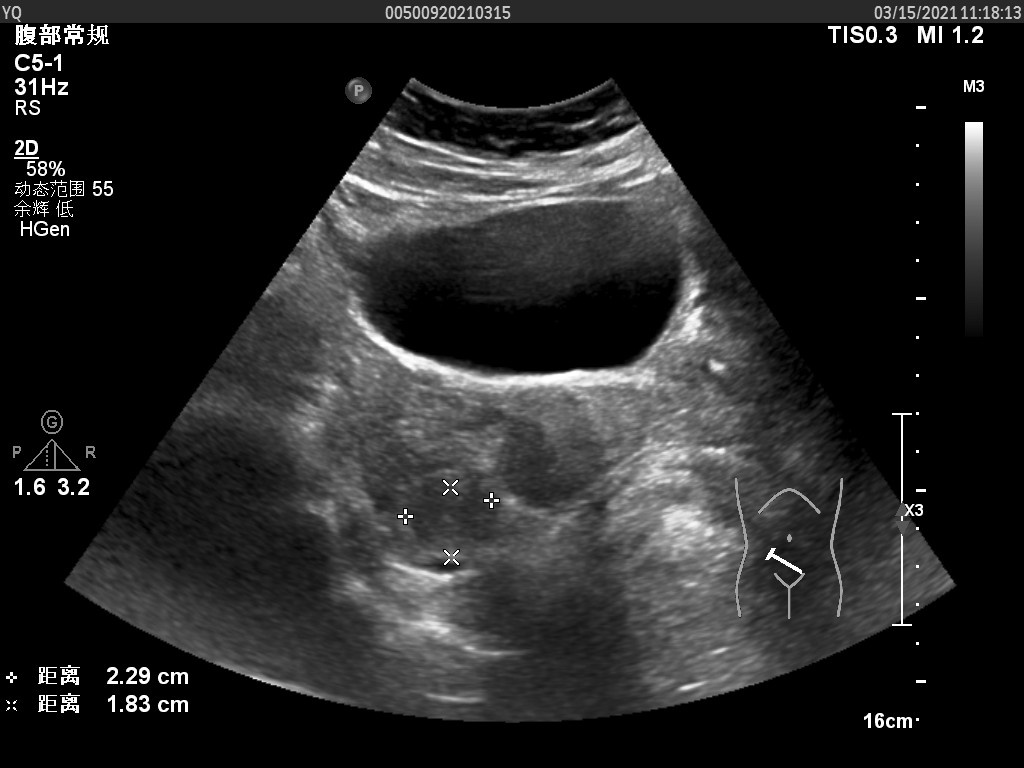肌瘤: (403, 488, 490, 556)
